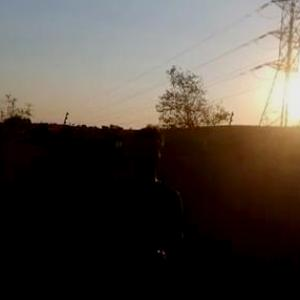follow: (96, 122, 186, 299)
